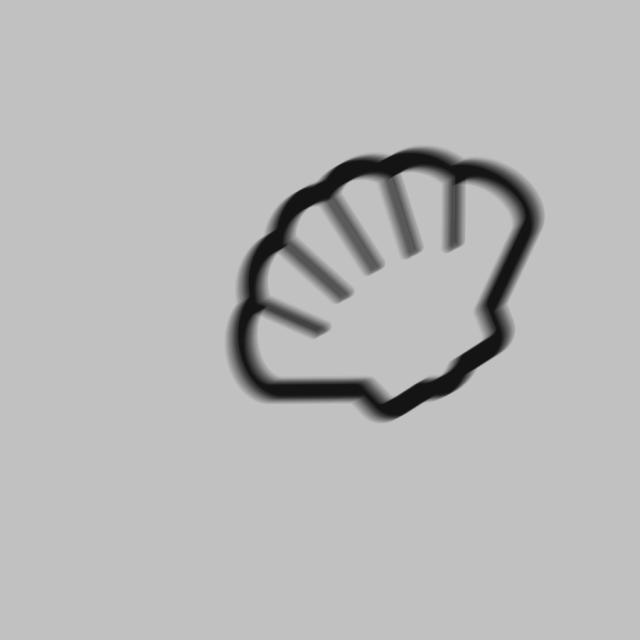shell: (222, 143, 551, 431)
